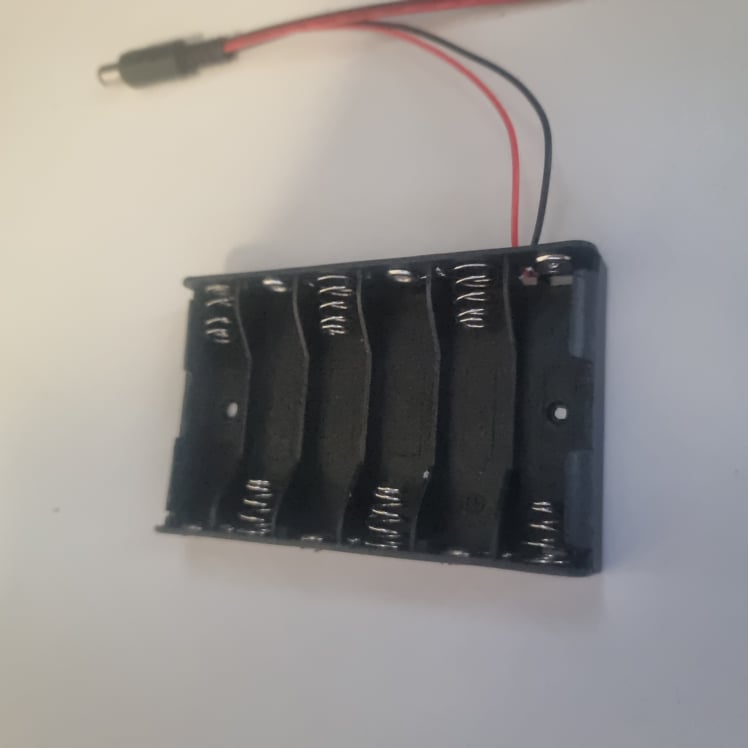BATTERY BOX: (154, 239, 606, 580)
